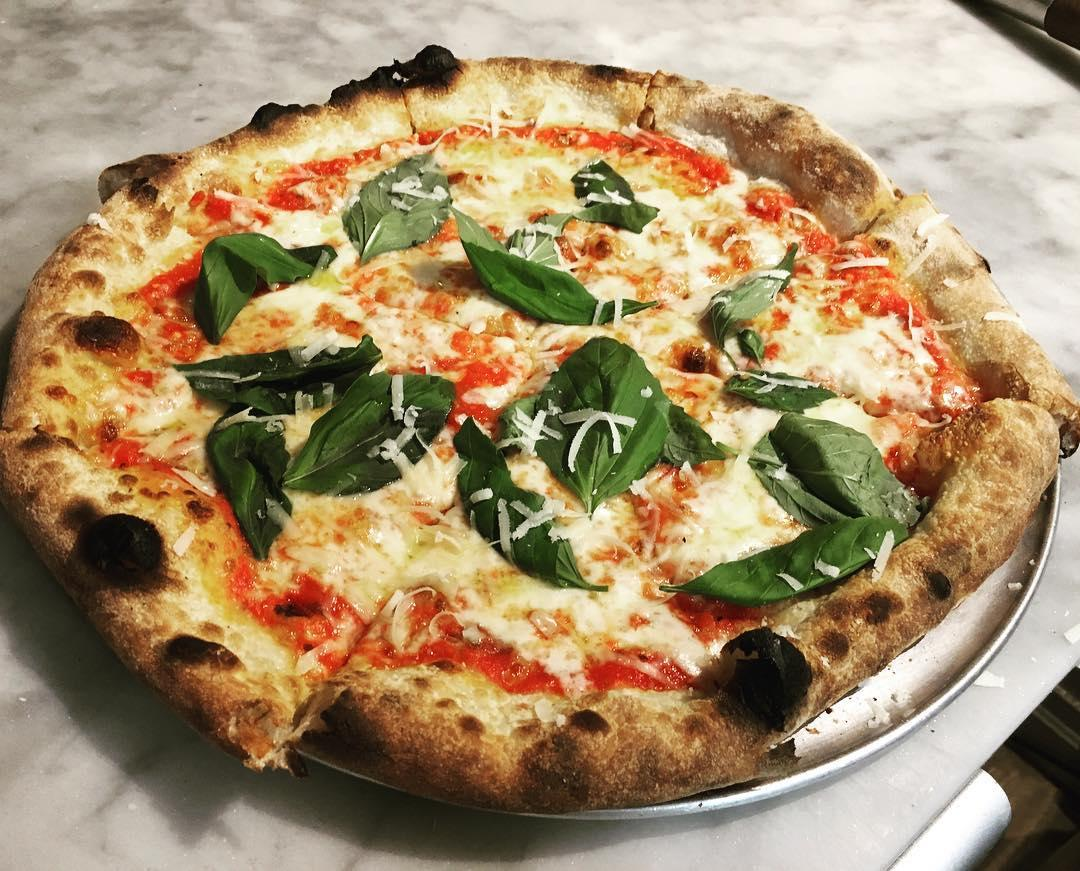Basil: (443, 407, 609, 597), (530, 336, 671, 519), (654, 510, 917, 607), (747, 414, 926, 539), (286, 366, 461, 493), (496, 386, 740, 469), (453, 236, 670, 327), (166, 326, 390, 413), (193, 224, 337, 344), (200, 407, 300, 564), (336, 146, 457, 269), (706, 239, 804, 373), (437, 194, 573, 270), (554, 153, 667, 233), (720, 369, 841, 416), (733, 324, 769, 370)
Pizza: (0, 44, 1080, 819)
